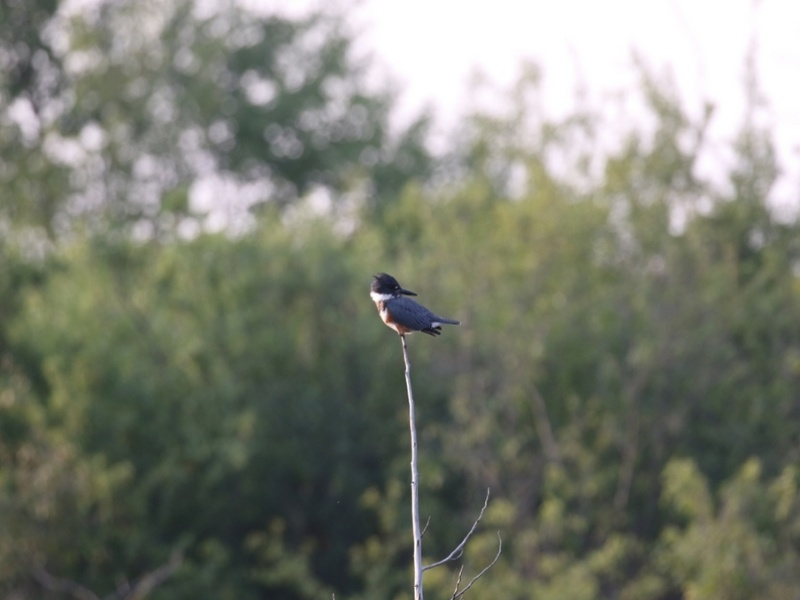kingfisher: (366, 272, 461, 340)
